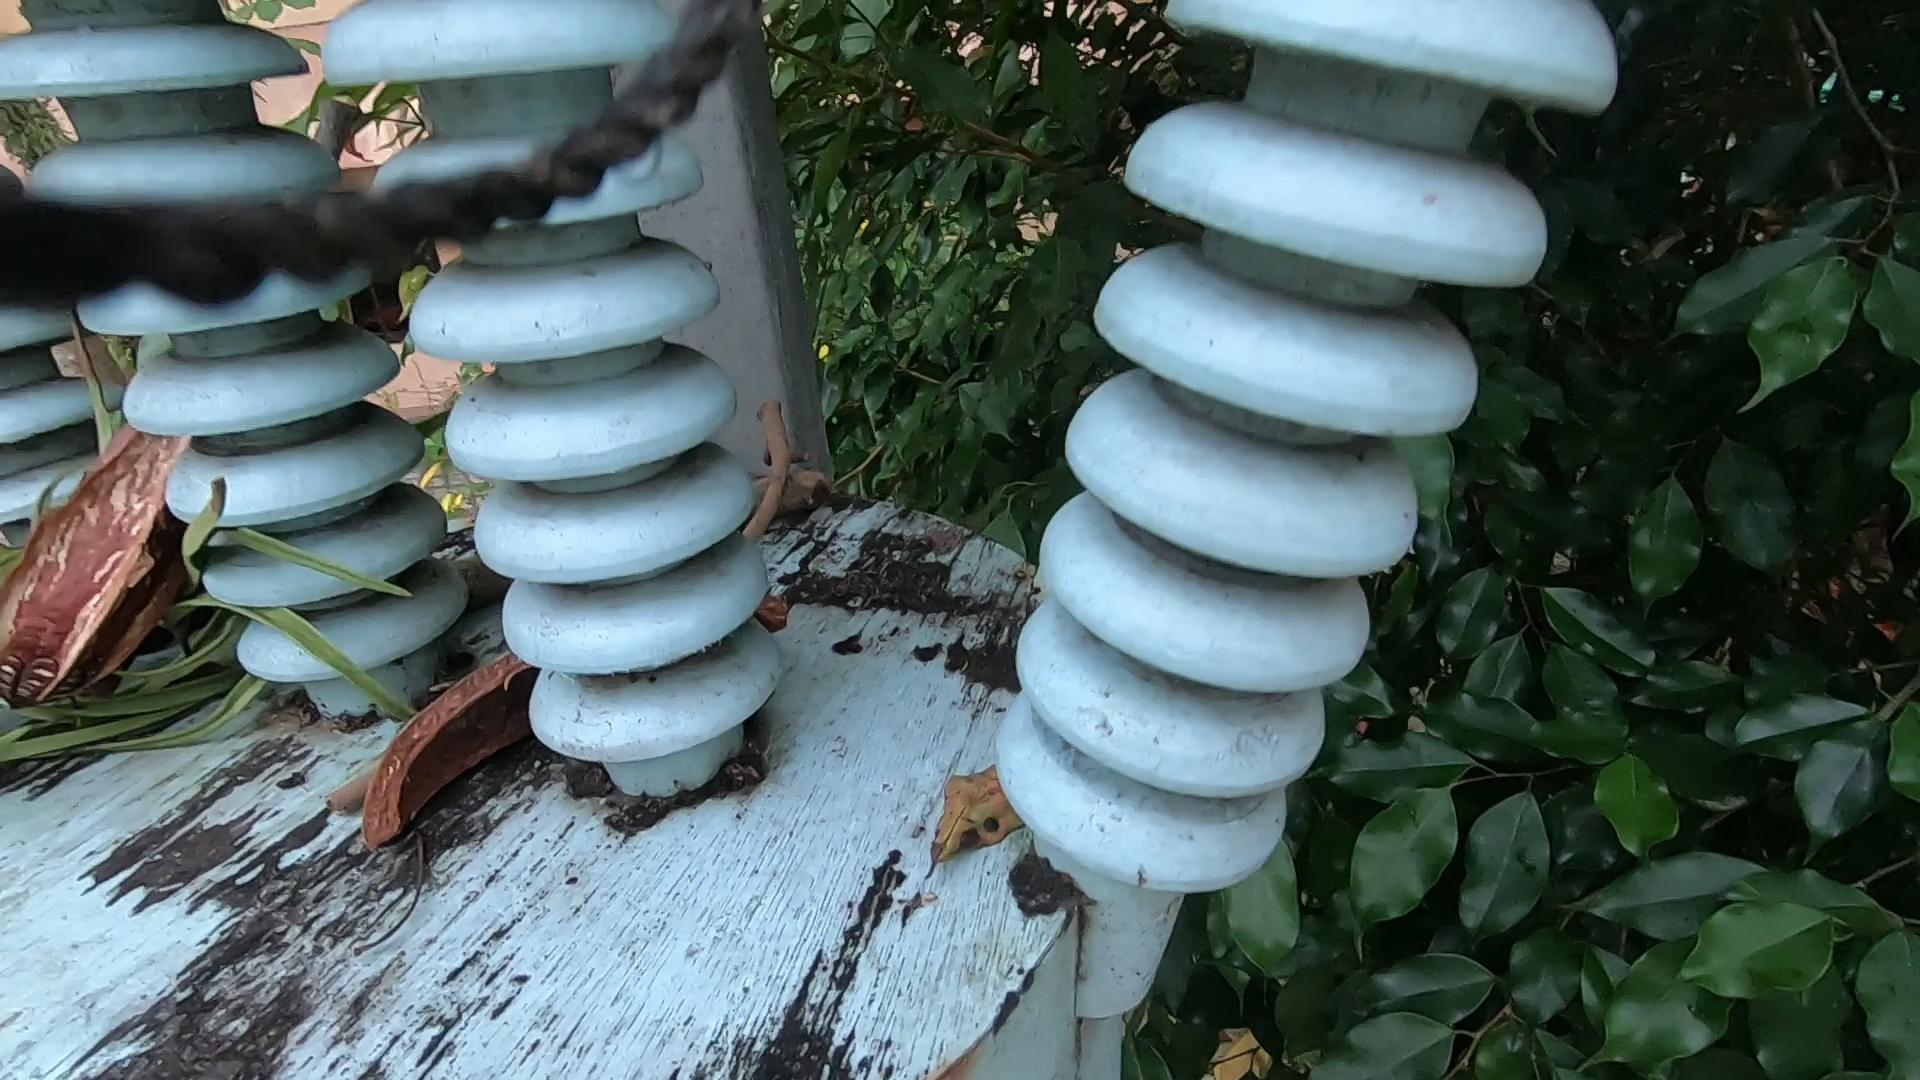branch with leaves: (1, 513, 583, 803)
leaf: (947, 707, 1141, 1048)
mahogany fruit: (342, 626, 622, 923), (49, 330, 175, 815)
tree branch: (247, 703, 443, 869), (274, 53, 389, 198), (729, 371, 808, 534)
